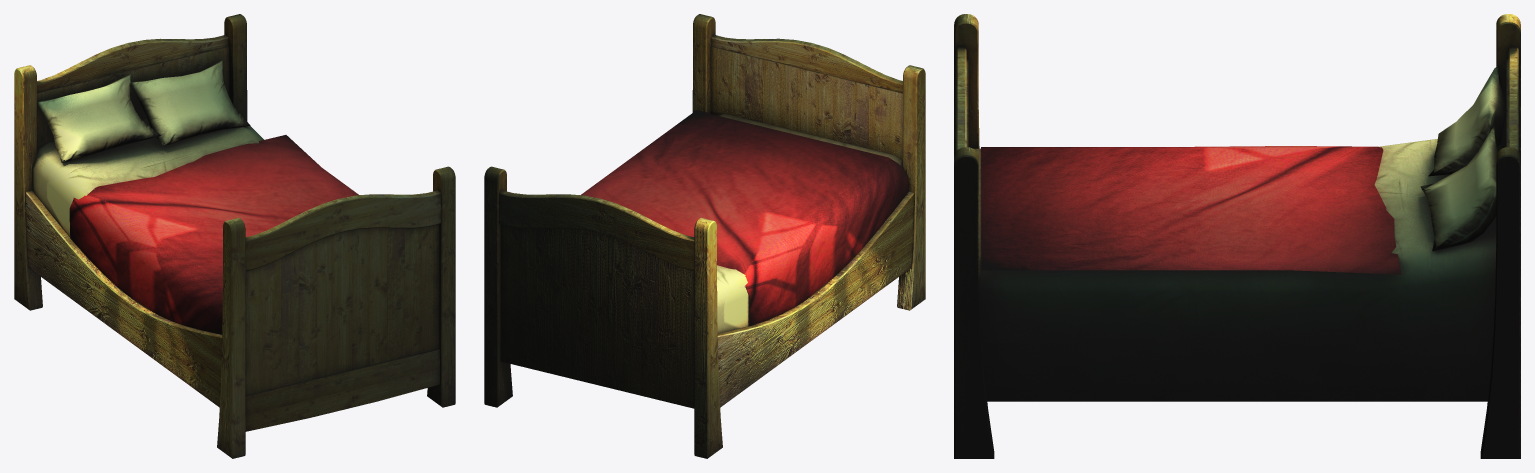
File: Bad.obj
The picture shows the model from 3 angles, left to right: view 1: azimuth 30°, elevation 25°; view 2: azimuth 150°, elevation 25°; view 3: azimuth 270°, elevation 25°; orthographic projection. The views are drawn at different scales.
Parts seen in each view (by area): view 1: bad_for; view 2: bad_for; view 3: bad_for.
Part boxes in pixels (x1,y1,x2,y2): bad_for: (14,14,455,458); bad_for: (484,14,925,458); bad_for: (954,14,1520,458).
Size of the model in its own units: 1.27 by 1.25 by 2.12.
